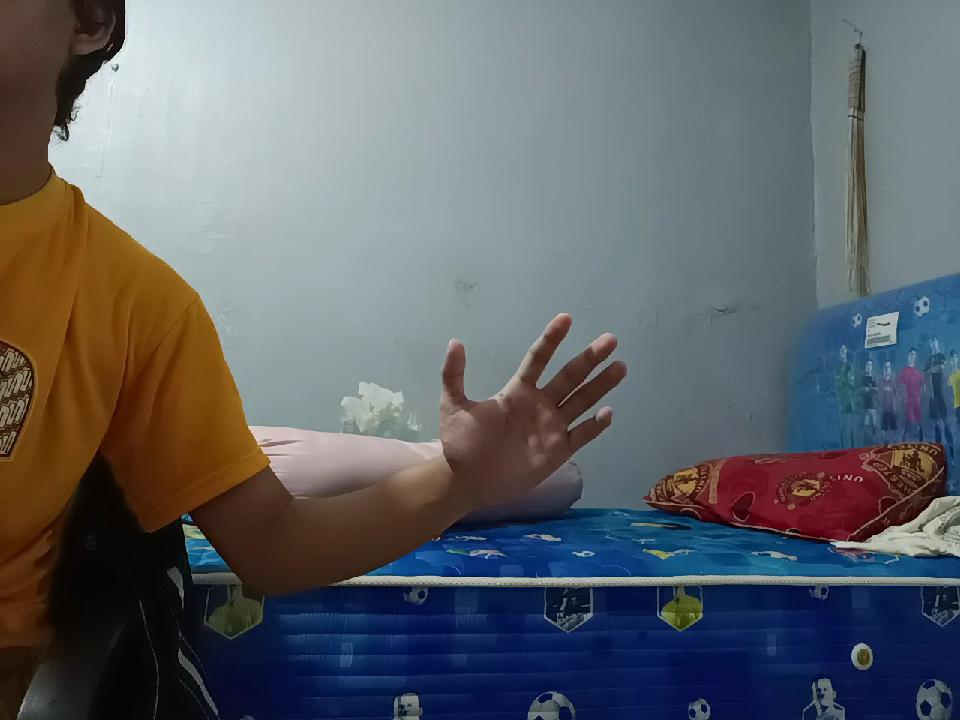scissors: (413, 312, 636, 492)
